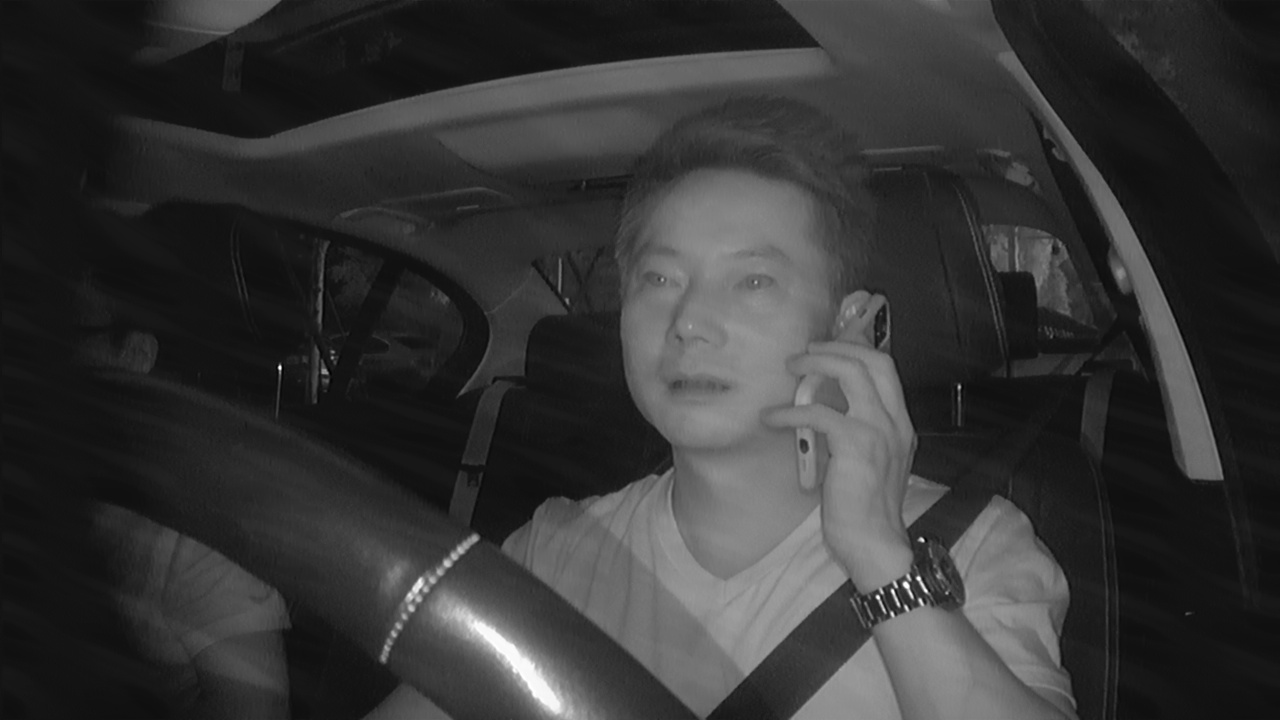hand: (763, 334, 927, 541)
